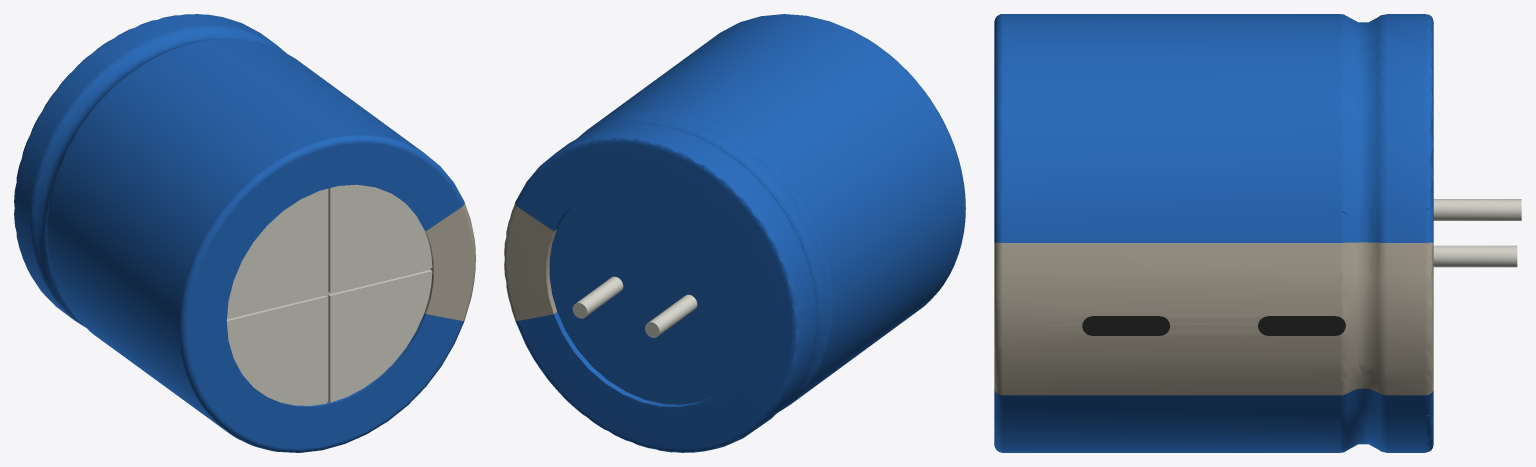
The model's file is cp-radial-d10.0-p2.50.glb.
3 views of the same model, side by side, from view 1: azimuth 30°, elevation 25°; view 2: azimuth 150°, elevation 25°; view 3: azimuth 270°, elevation 25° (orthographic). The views are drawn at different scales.
Visible parts, largest first — view 1: PLASTIC-BLUE-01, PIN-01, IC-LABEL-01; view 2: PLASTIC-BLUE-01, IC-LABEL-01, PIN-01; view 3: PLASTIC-BLUE-01, IC-LABEL-01, PIN-01, IC-BODY-EPOXY-04.
Part boxes in pixels (x1,y1,x2,y2): PLASTIC-BLUE-01: (14, 14, 464, 452); PIN-01: (226, 184, 432, 405); IC-LABEL-01: (424, 203, 475, 320); PLASTIC-BLUE-01: (515, 14, 965, 452); IC-LABEL-01: (504, 203, 556, 320); PIN-01: (572, 276, 697, 337); PLASTIC-BLUE-01: (994, 14, 1433, 452); IC-LABEL-01: (994, 242, 1433, 395); PIN-01: (1433, 199, 1521, 267); IC-BODY-EPOXY-04: (1082, 316, 1345, 335).
Bounding box in the file's own units: 10 × 10 × 12.
